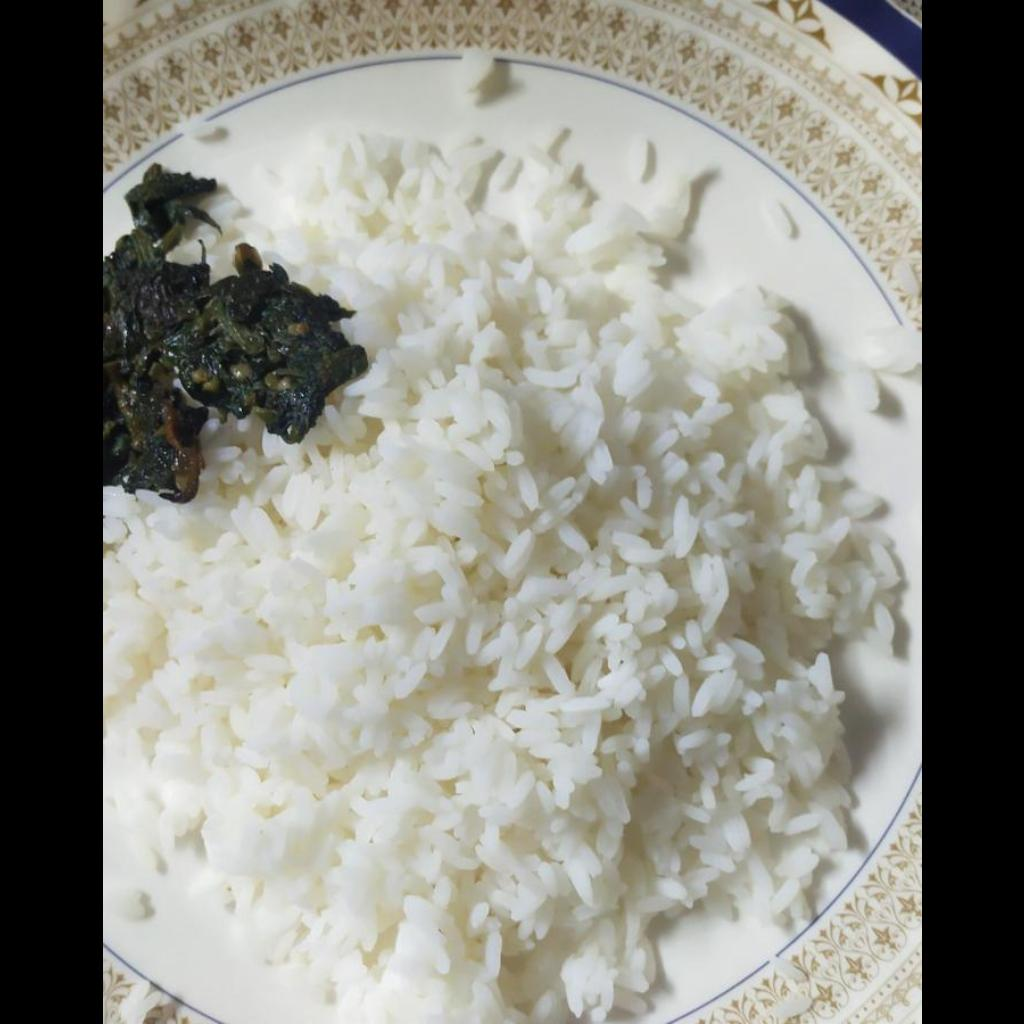rice: (102, 135, 897, 1023)
shak: (102, 162, 369, 500)
